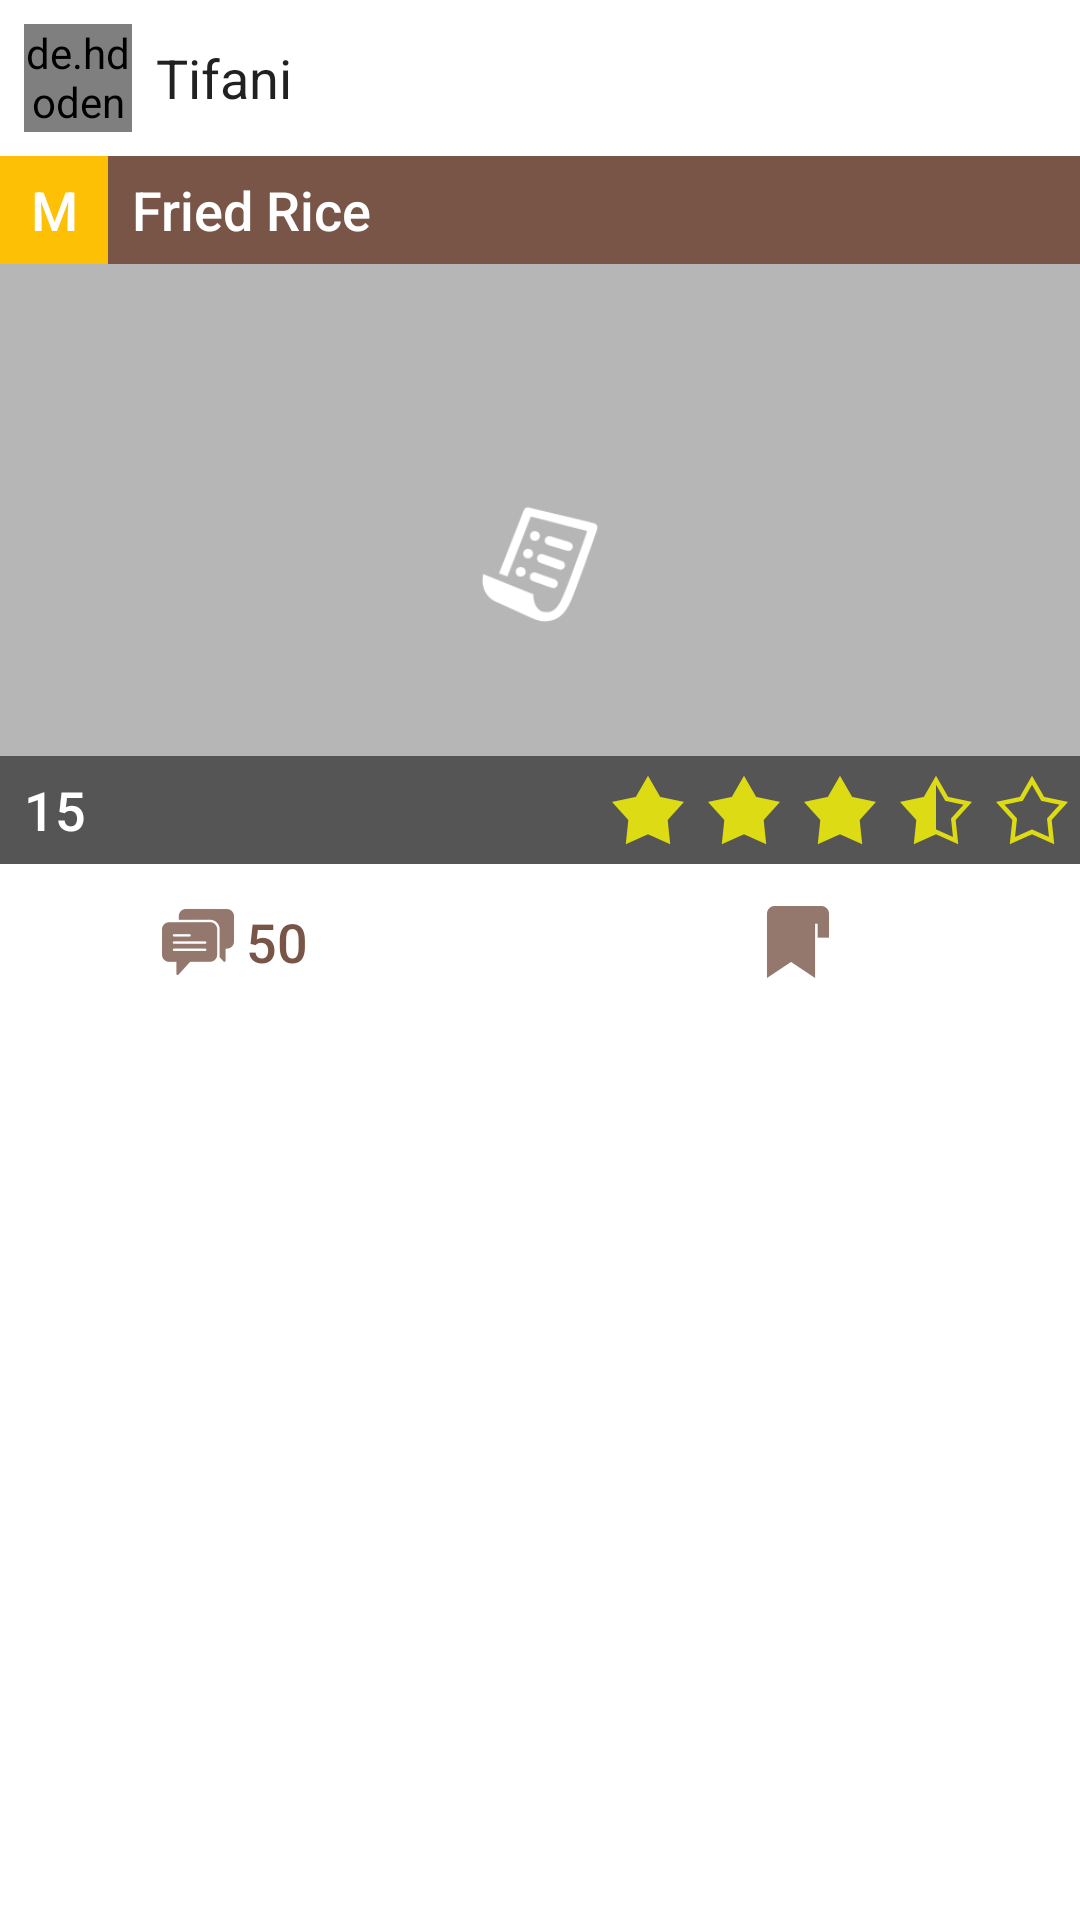

Icon bounding boxes for this 1080px x 1920px phone screenshot, format (x1, y1, x2, y2):
bookmarked: (767, 906, 829, 978)
empty star: (996, 776, 1068, 844)
full star: (612, 776, 684, 844), (708, 776, 780, 844), (804, 776, 876, 844)
half star: (900, 776, 972, 844)
